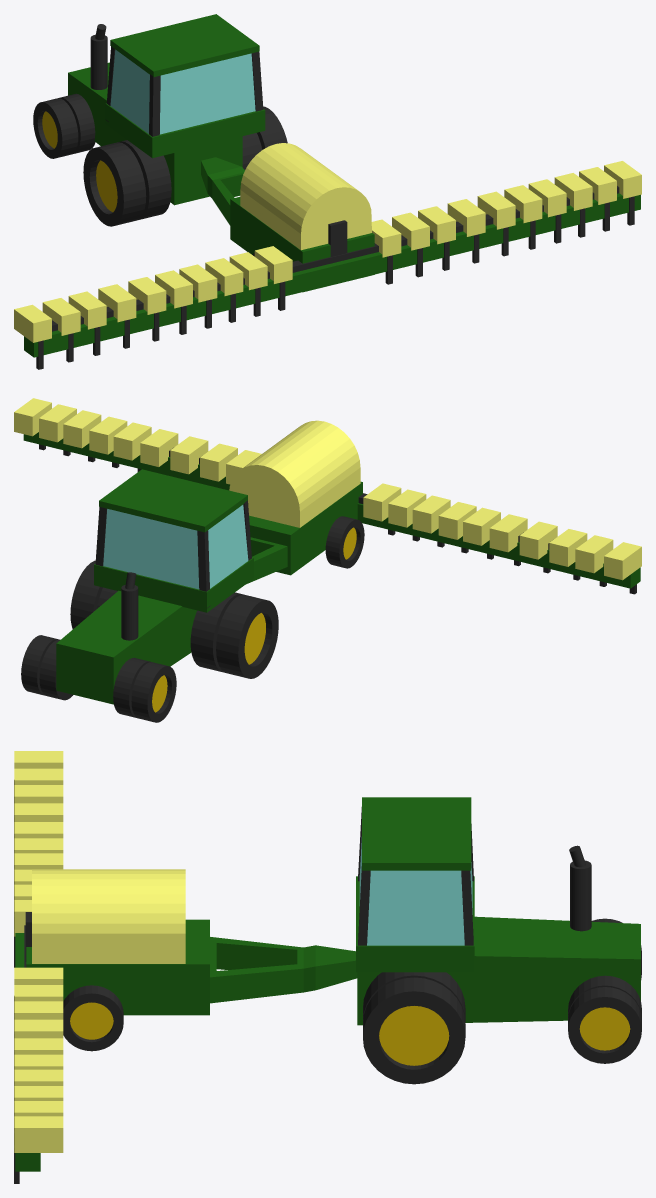
Rendered from planter.gltf.
The picture shows the model from 3 angles, top to bottom: view 1: azimuth 30°, elevation 25°; view 2: azimuth 150°, elevation 25°; view 3: azimuth 270°, elevation 25°; orthographic projection. The views are drawn at different scales.
Visible parts, largest first — view 1: Cube.001, Cylinder, Cube.025, Cube.026, Cube.024, Tire.007, Cube.023, Cube, Tire.011, Tire.006, Cube.022, Cube.052 (+26 smaller); view 2: Cylinder, Cube.024, Cube.025, Cube.026, Cube.001, Tire.007, Cube, Cube.023, Tire.011, Tire.006, Tire.003, Tire.004 (+26 smaller); view 3: Cube.024, Cylinder, Tire.004, Cube.026, Cube, Cube.025, Cube.022, Tire.008, Cube.023, Tire.001, Cube.042, Cylinder.001 (+21 smaller).
Part boxes in pixels (box(x1,y1,x2,y2)): Cube.001: box(24, 193, 640, 357); Cylinder: box(240, 143, 371, 250); Cube.025: box(110, 49, 255, 134); Cube.026: box(110, 14, 259, 77); Cube.024: box(68, 62, 242, 205); Tire.007: box(83, 142, 146, 226); Cube.023: box(105, 103, 265, 158); Cube: box(230, 197, 374, 292); Tire.011: box(33, 98, 78, 158); Tire.006: box(118, 140, 171, 219); Cube.022: box(201, 157, 244, 225); Cube.052: box(52, 186, 619, 331); Cylinder: box(229, 420, 360, 527); Cube.024: box(56, 590, 197, 704); Cube.025: box(103, 505, 248, 589); Cube.026: box(99, 469, 247, 532); Cube.001: box(23, 432, 640, 588); Tire.007: box(216, 594, 278, 678); Cube: box(249, 481, 362, 575); Cube.023: box(94, 557, 253, 612); Tire.011: box(131, 662, 176, 722); Tire.006: box(190, 592, 243, 672); Tire.003: box(325, 516, 364, 568); Tire.004: box(70, 560, 102, 629); Cube.024: box(357, 916, 640, 1025); Cylinder: box(32, 869, 185, 963); Tire.004: box(363, 977, 465, 1084); Cube.026: box(362, 797, 471, 870); Cube: box(26, 919, 209, 1015); Cube.025: box(359, 837, 472, 945); Cube.022: box(210, 937, 357, 1003); Tire.008: box(568, 987, 641, 1063); Cube.023: box(356, 876, 474, 972); Tire.001: box(63, 985, 123, 1051); Cube.042: box(14, 1116, 63, 1152); Cylinder.001: box(570, 860, 591, 931).
Size of the model in its own units: 22.08 by 5.52 by 15.55.
